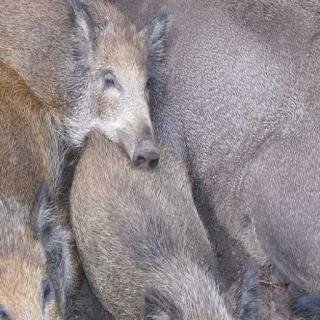Pig: (1, 0, 160, 312)
